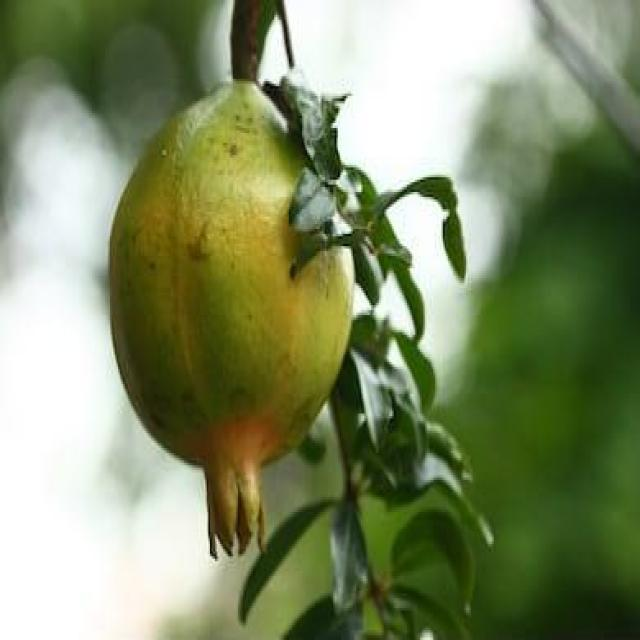Pomegranate: (106, 74, 355, 560)
